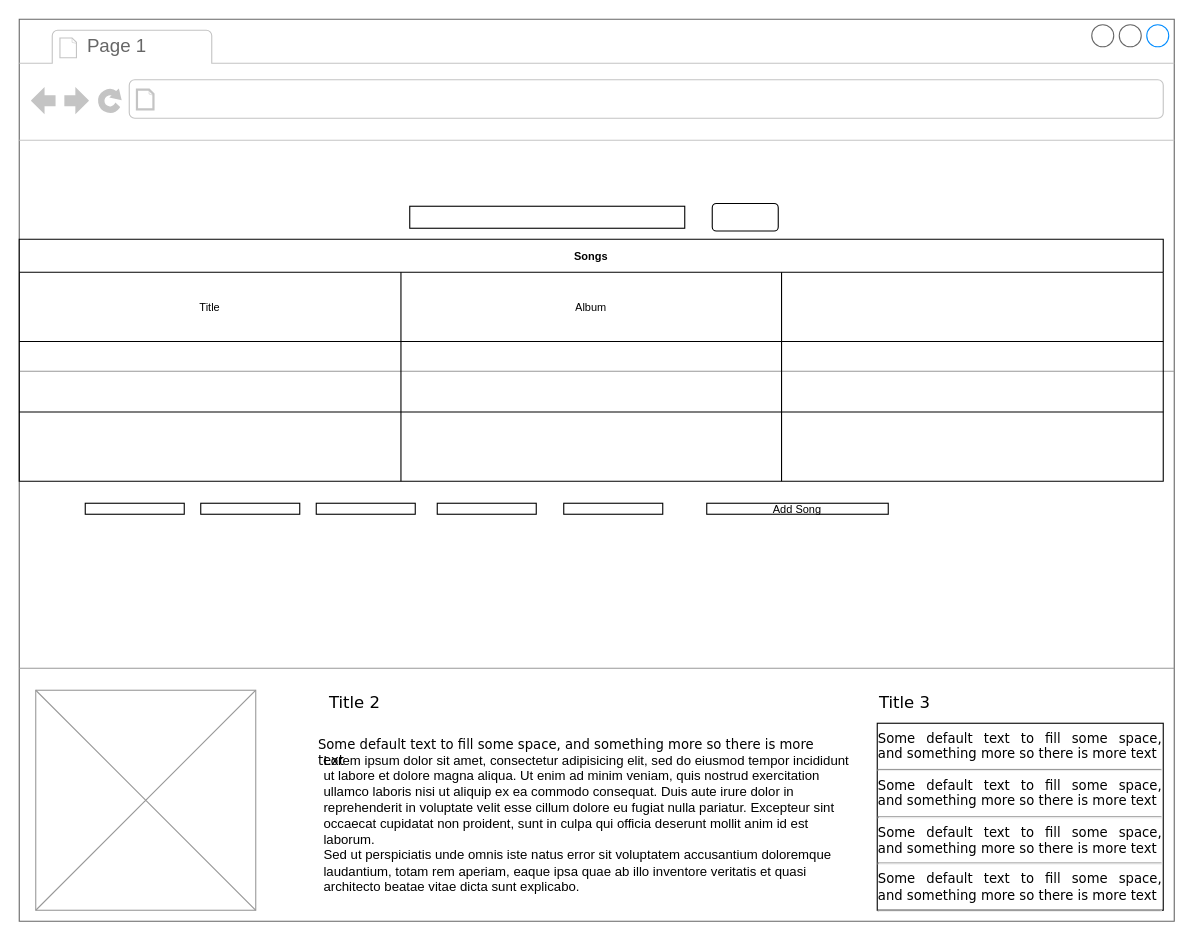
Image size: 1194x941. Some labels were removed from this diagram. Each missing label, with the centre of its shape:
"SEARCH" goes at [744,216].
"Search For Song" goes at [547,216].
